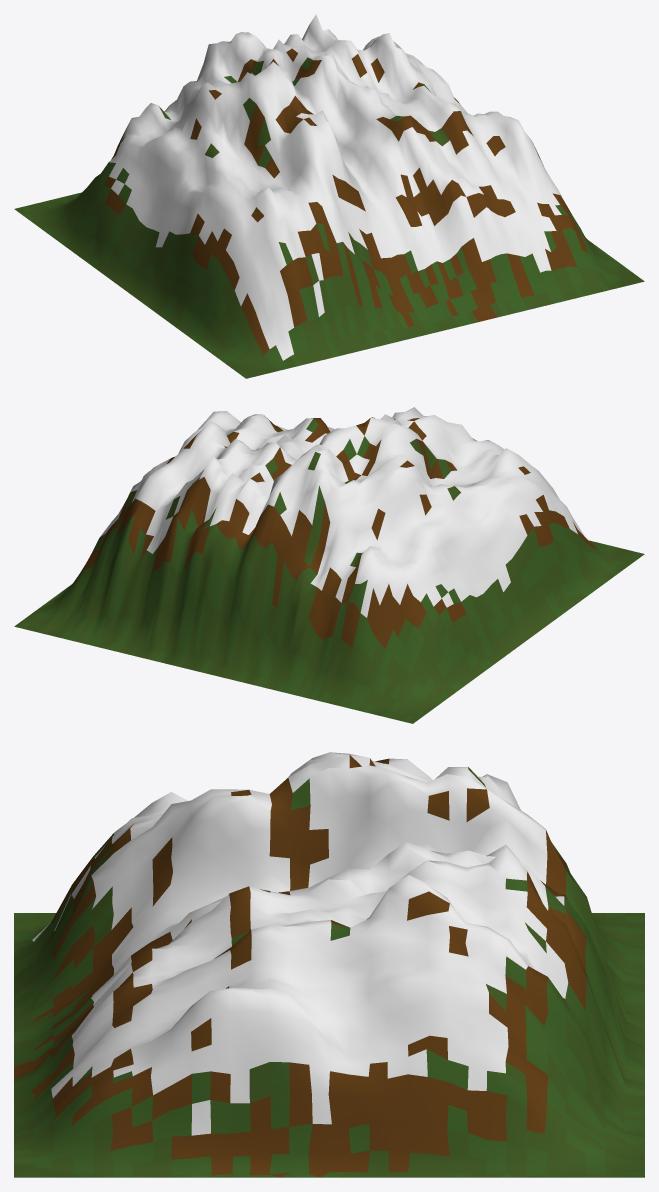
File: S0.mountain.5.glb
The picture shows the model from 3 angles, top to bottom: view 1: azimuth 30°, elevation 25°; view 2: azimuth 150°, elevation 25°; view 3: azimuth 270°, elevation 25°; orthographic projection. The views are drawn at different scales.
Parts seen in each view (by area): view 1: Landscape.000; view 2: Landscape.000; view 3: Landscape.000.
Boxes of the visible parts, <box> form: Landscape.000: <box>14,14,644,378</box>; Landscape.000: <box>14,407,644,723</box>; Landscape.000: <box>14,752,644,1177</box>.
Bounding box in the file's own units: 303 × 139 × 305.
